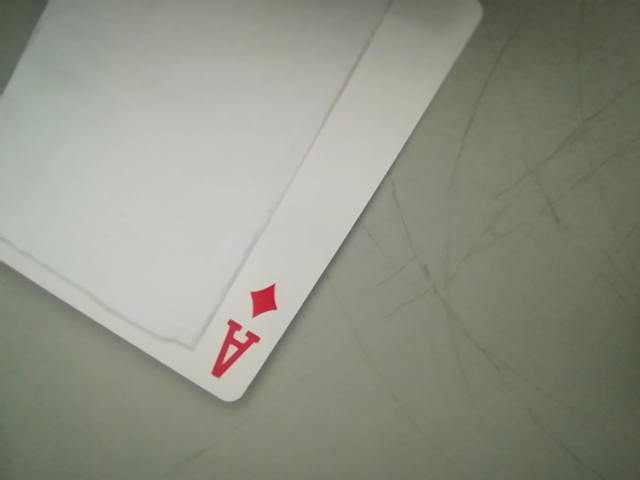fk a: (204, 280, 288, 391)
